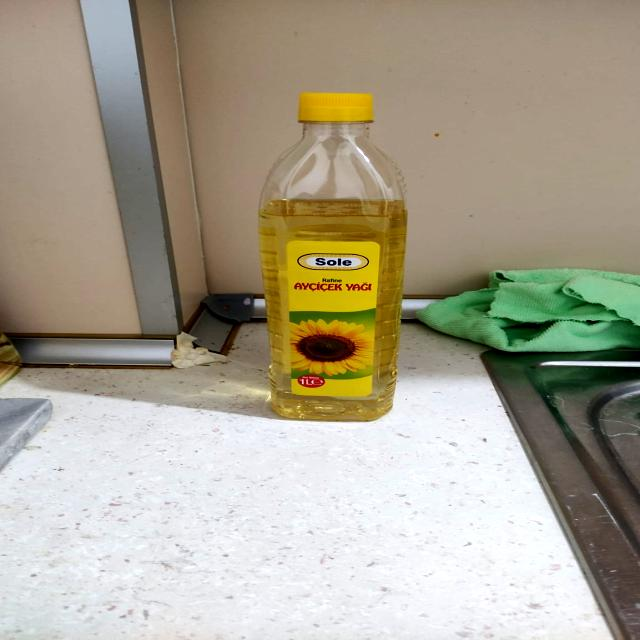olive oil: (228, 79, 428, 427)
